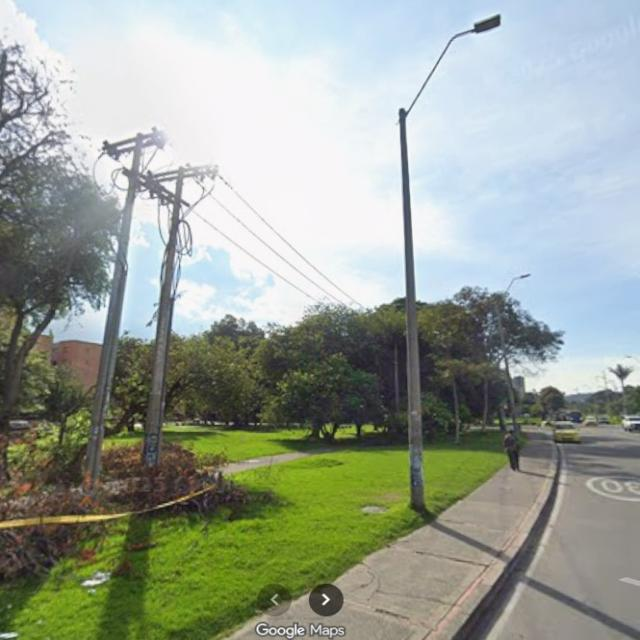Poste: (398, 14, 500, 512), (87, 133, 159, 483), (142, 165, 215, 466), (495, 304, 518, 429), (502, 274, 529, 300)
